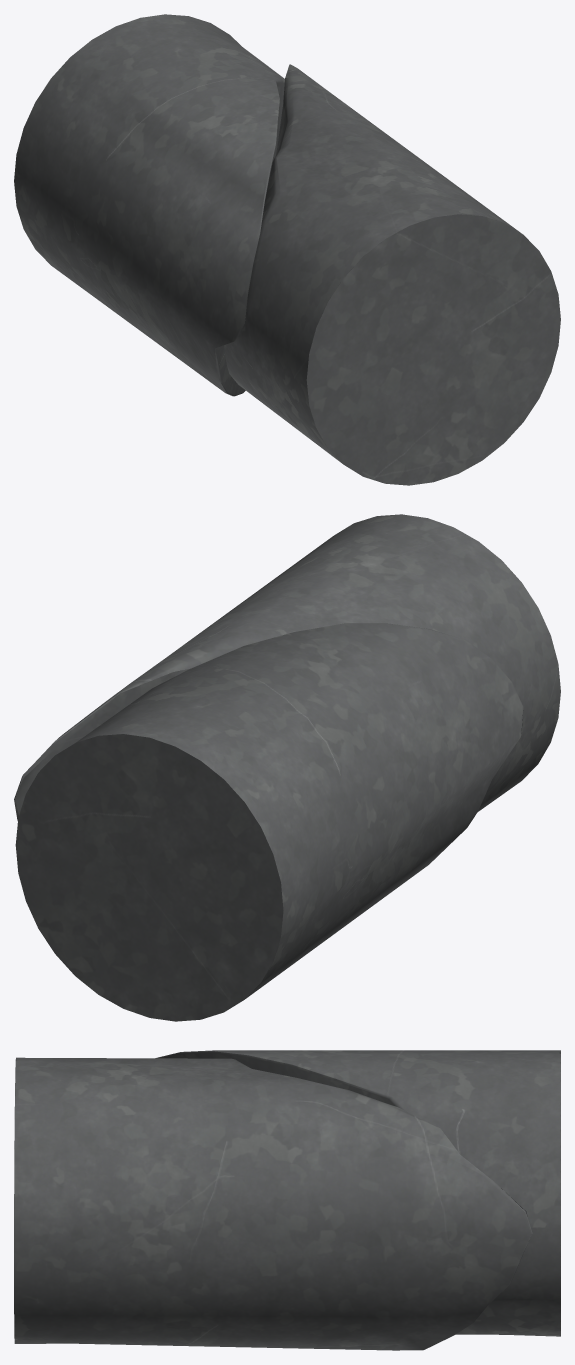
File: cast_iron_break.fbx
3 renders of one model, top to bottom at view 1: azimuth 30°, elevation 25°; view 2: azimuth 150°, elevation 25°; view 3: azimuth 270°, elevation 25°, orthographic. The views are drawn at different scales.
Parts seen in each view (by area): view 1: cast_iron_bottom, cast_iron_top; view 2: cast_iron_top, cast_iron_bottom; view 3: cast_iron_bottom, cast_iron_top.
Part boxes in pixels (bbox=[...]): cast_iron_bottom: bbox=[224, 64, 560, 485]; cast_iron_top: bbox=[14, 14, 284, 396]; cast_iron_top: bbox=[15, 623, 523, 1021]; cast_iron_bottom: bbox=[14, 514, 560, 820]; cast_iron_bottom: bbox=[14, 1057, 532, 1350]; cast_iron_top: bbox=[155, 1050, 560, 1336].
Size of the model in its own units: 2.17 by 2 by 3.82.
